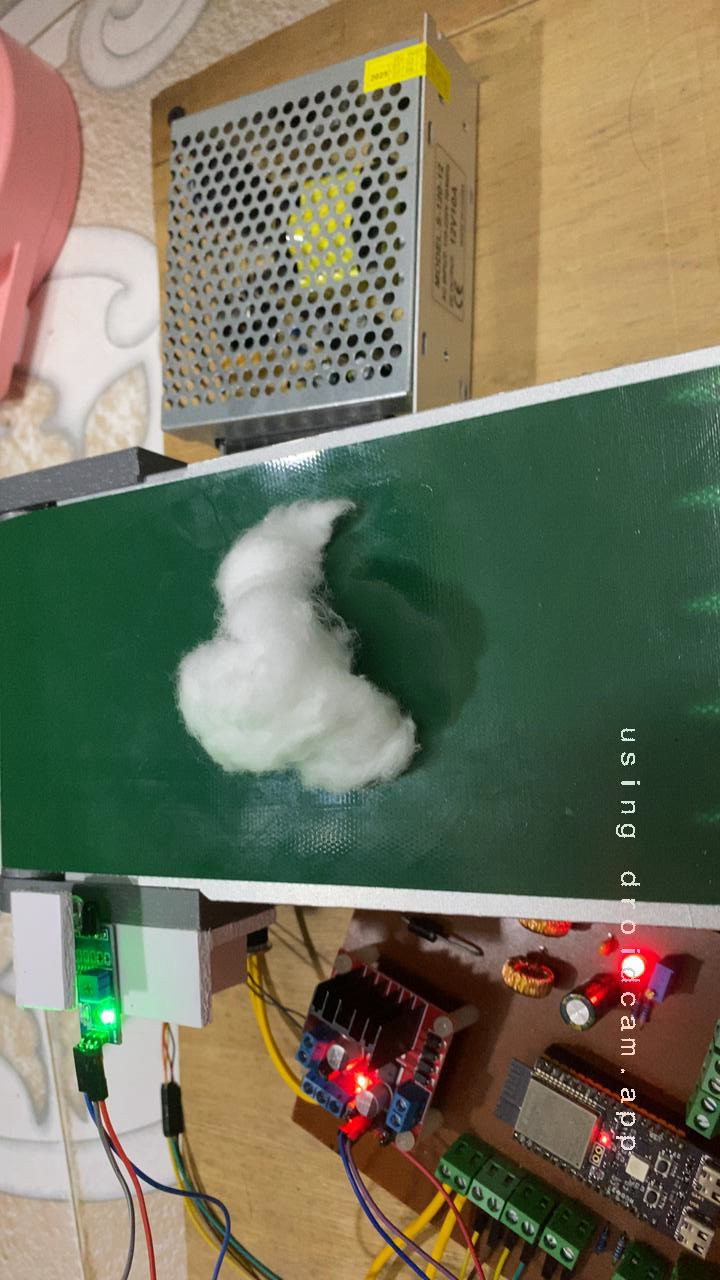cotton: (136, 466, 454, 811)
